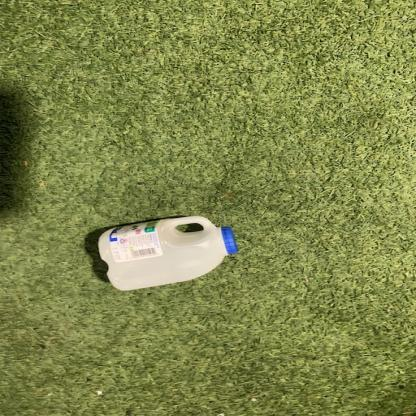trash: (94, 214, 240, 292)
